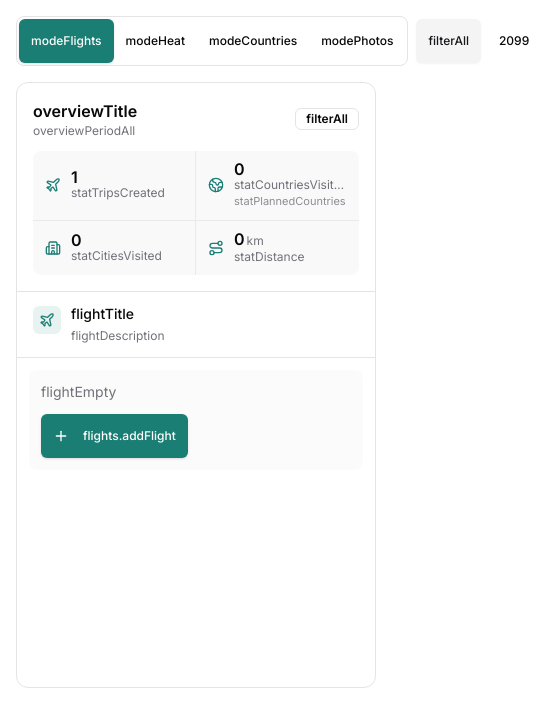
Test case: TripMapView planned footprint and flight entry › does not count a trip that has not started, and marks its country as planned
Expected: the text "statPlannedCountries" is shown, [234, 193, 347, 210]
Click the button "modeCountries".
click(253, 41)  # box [197, 19, 309, 63]
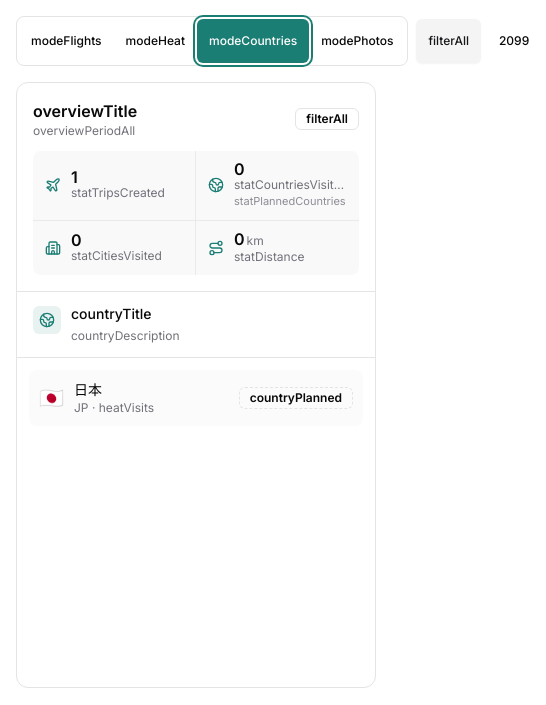
Expected: the text "countryPlanned" is shown, [239, 387, 353, 409]
